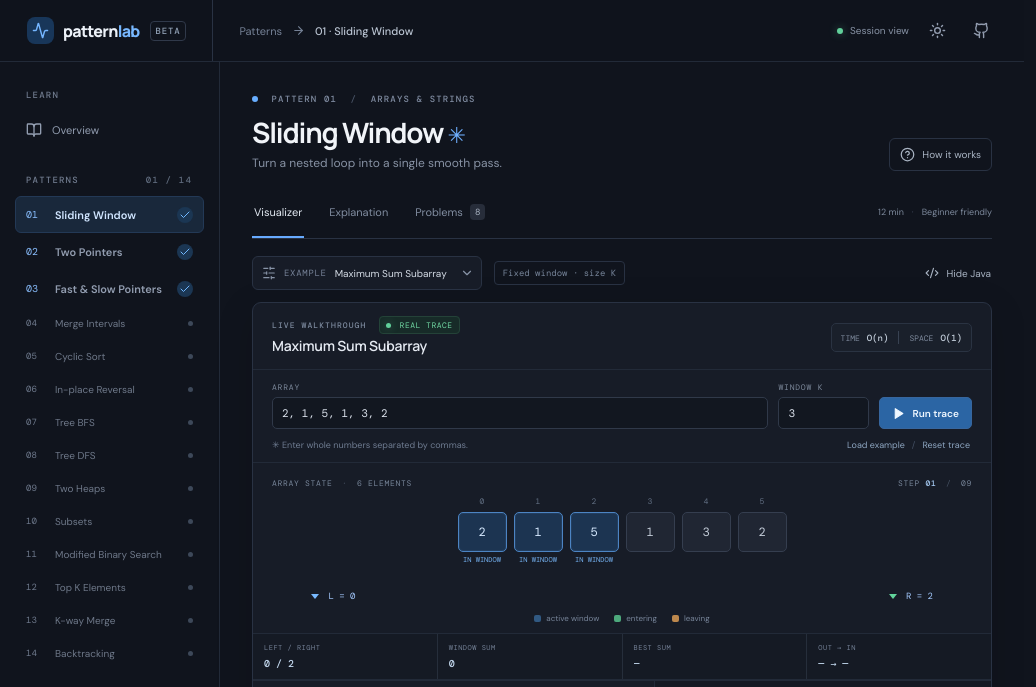
Scenario: PatternLab learning interface › validates new input and lets the learner switch examples
In the field named "Array input": point(520, 413) left=272, top=397, right=768, bottom=429, type "1, 2"
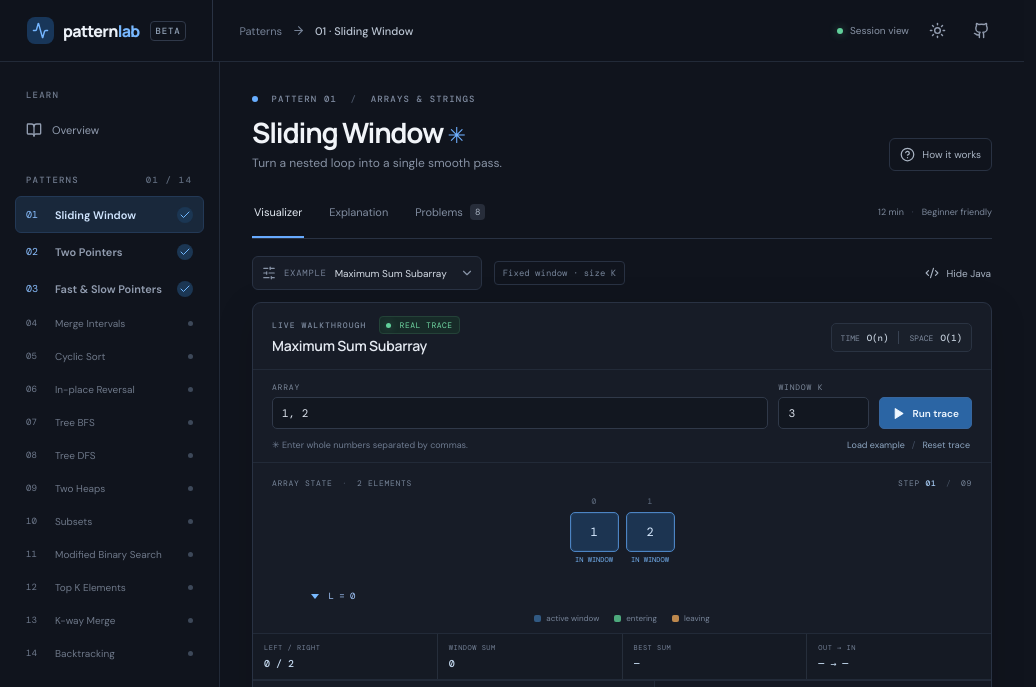
Replace the text in the number field labelled "WINDOW K" with "1": point(824, 413) left=778, top=397, right=870, bottom=429
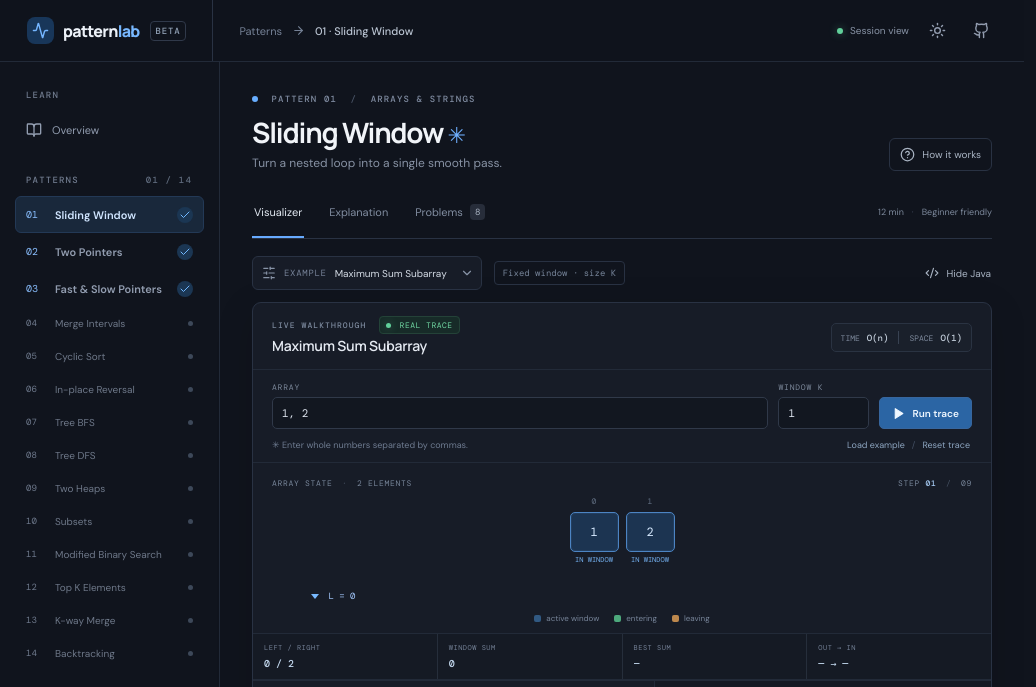
Click the button "Run trace": point(926, 413) left=880, top=397, right=972, bottom=429
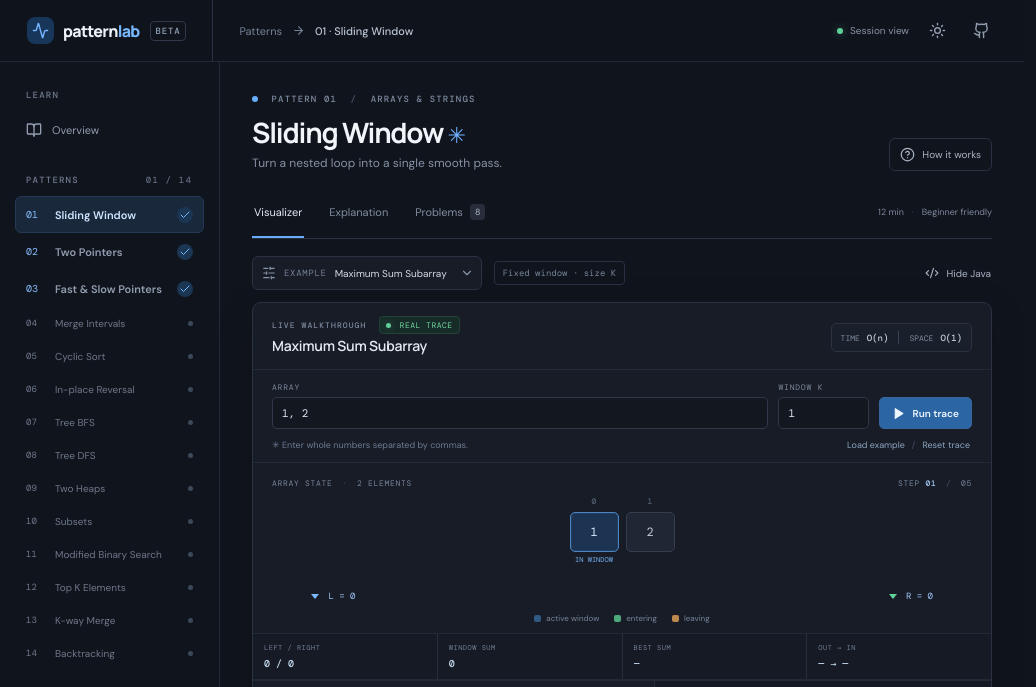
Replace the text in the number field labelled "WINDOW K" with "99": point(824, 413) left=778, top=397, right=870, bottom=429
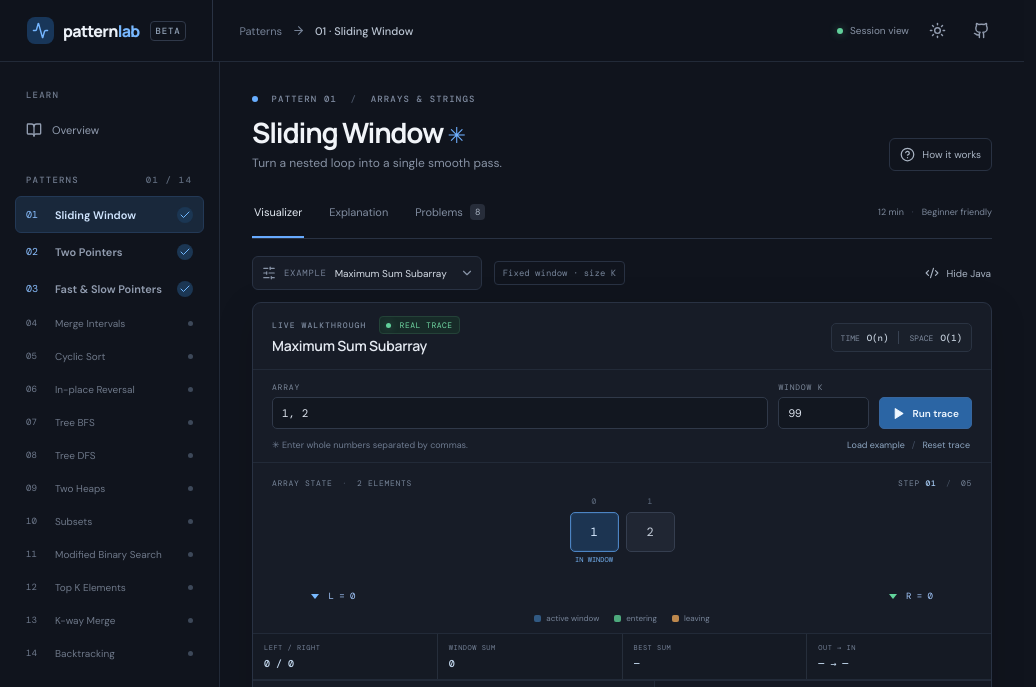
Click the button "Run trace": point(926, 413) left=880, top=397, right=972, bottom=429
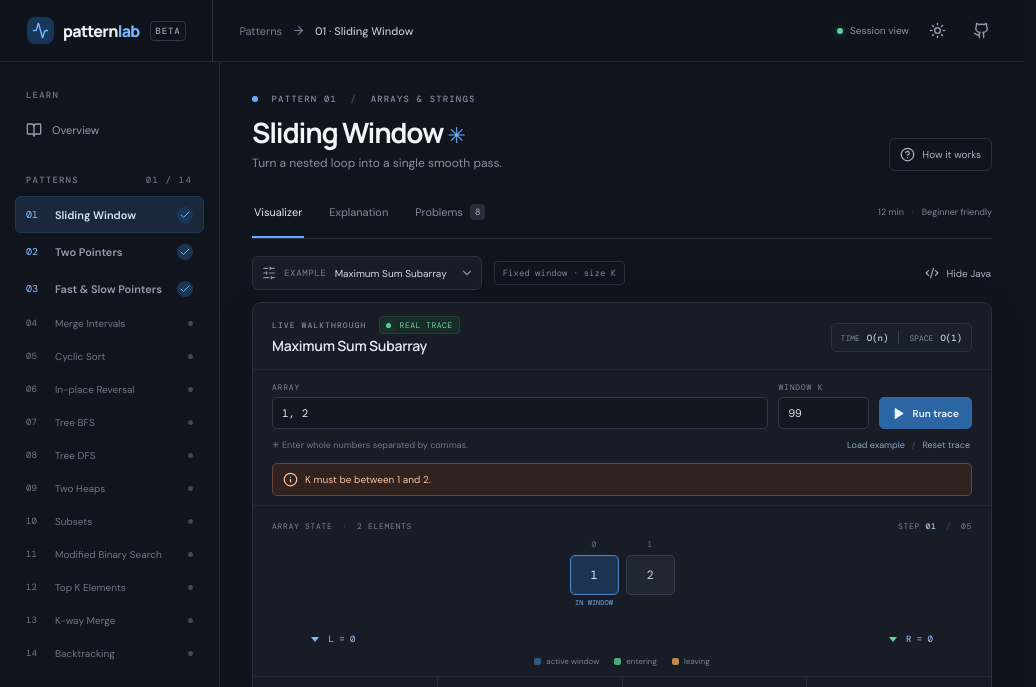
Result: the message shows "K must be between" at left=305, top=473, right=431, bottom=486
Select "Longest Unique Substring" in the dropdown named "Select algorithm example": point(403, 273) left=335, top=262, right=472, bottom=284
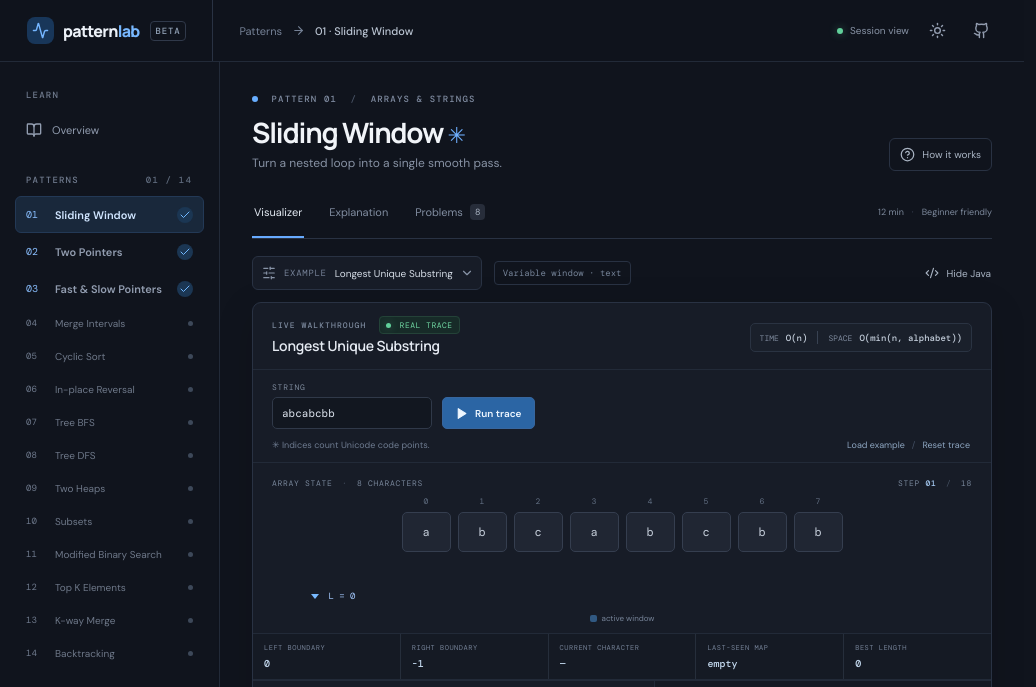
Result: the field named "String input" holds "abcabcbb" at left=272, top=397, right=432, bottom=429
